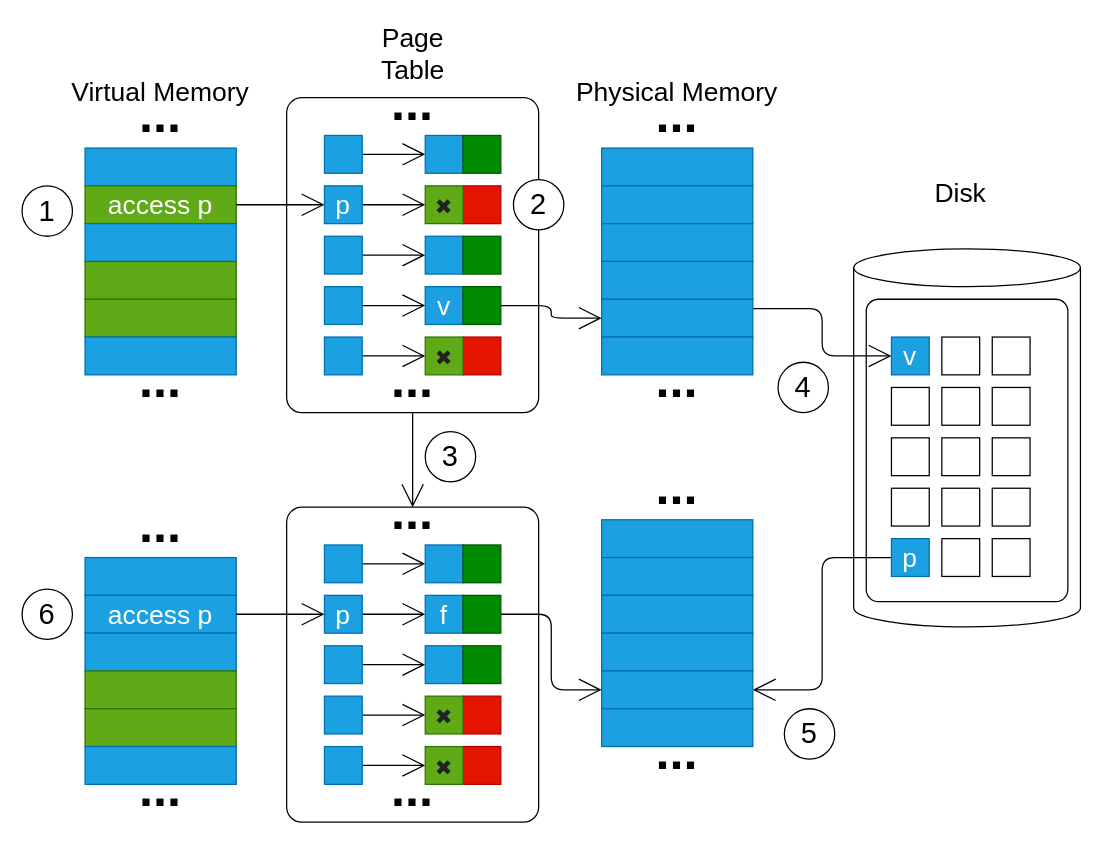
Some shapes in this 1103 by 844 pixel diagram are drawn without their labels. The box of each missing label's shape, as (x1, y1, x2, y2) in pixels:
f : p: (600, 670, 753, 709)
Swap Space: (865, 298, 1068, 602)
victim: (600, 298, 753, 337)
